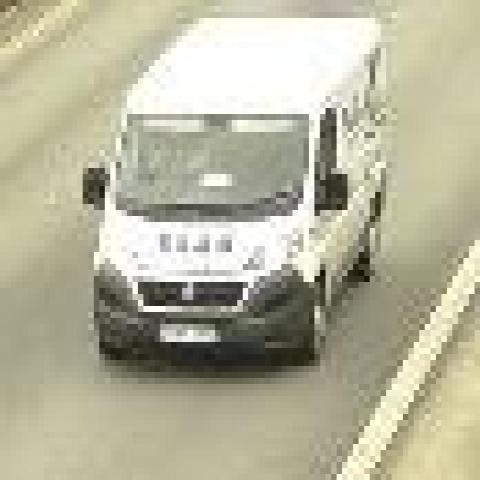van: (99, 18, 386, 372)
